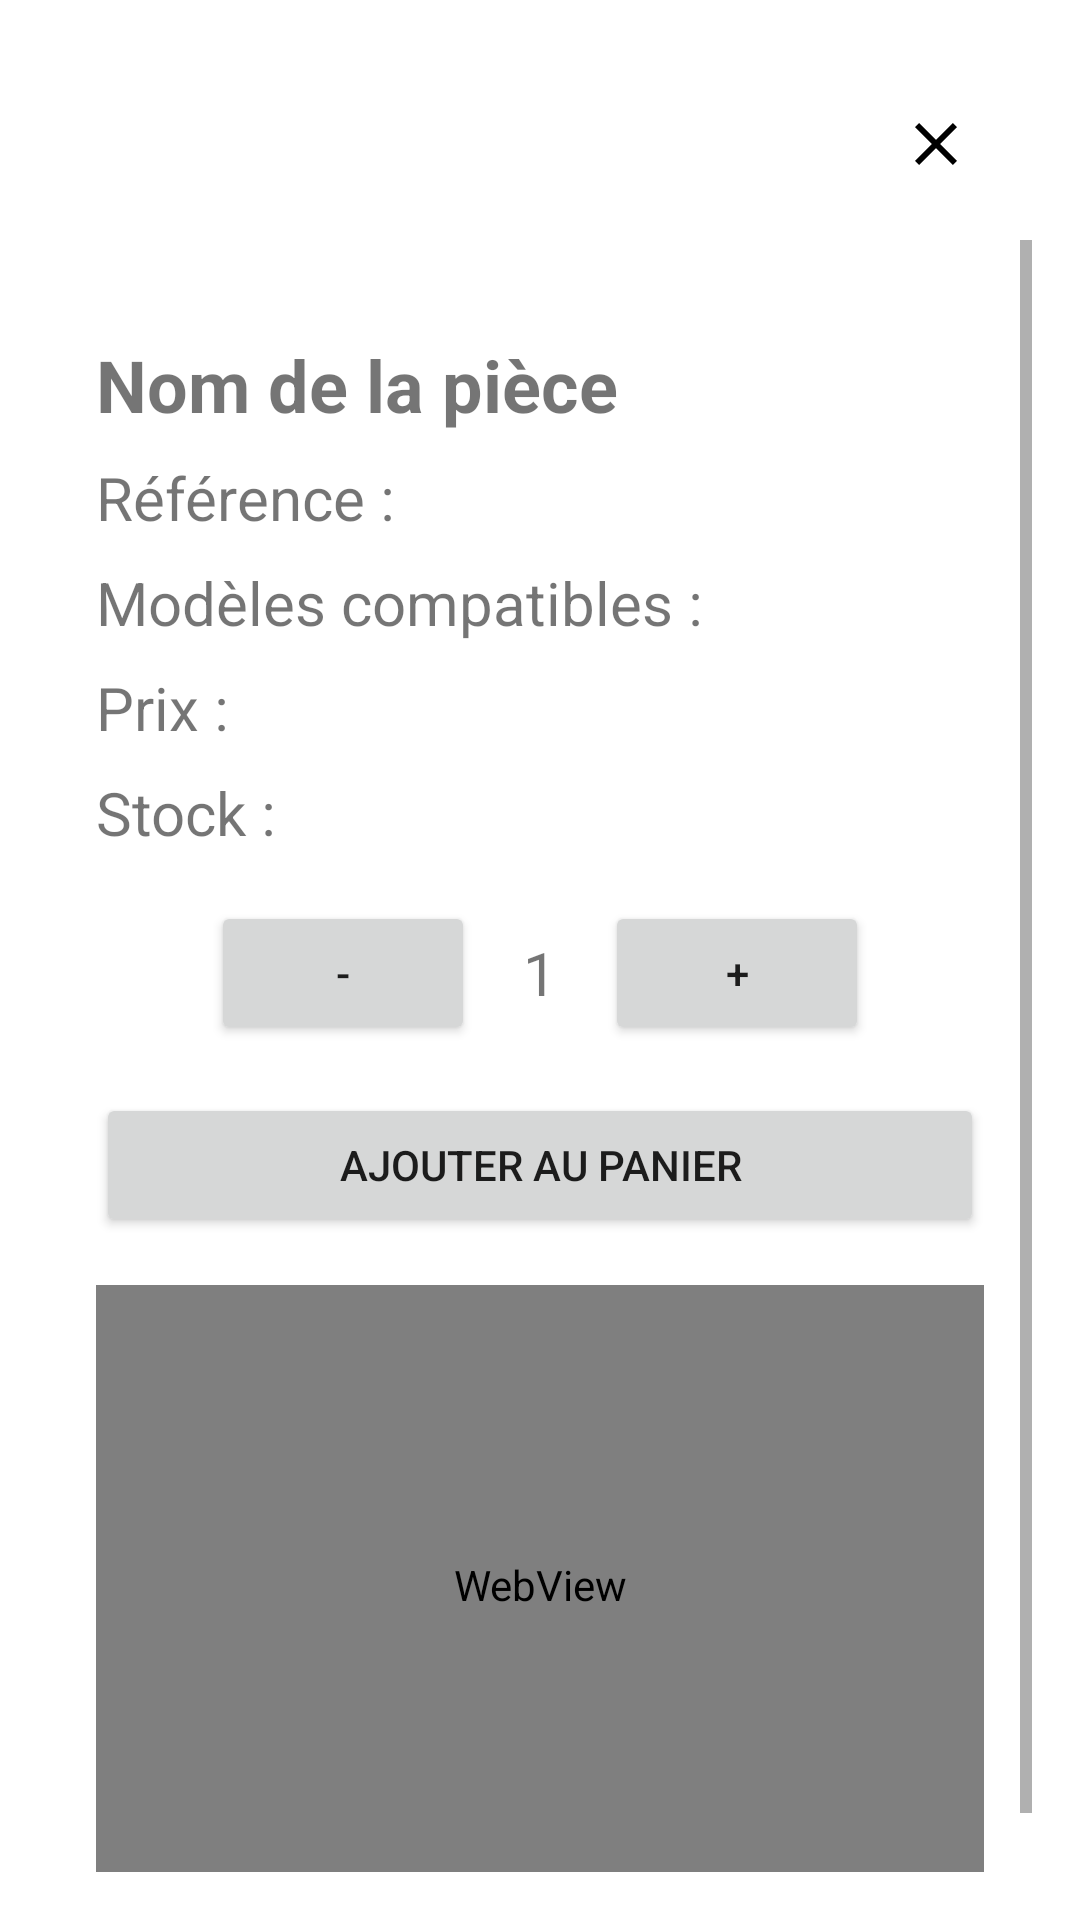

Icons on this 1080*1920 Android screen, each with its box as box=[x1, y1, x2, y2]:
Fermer: box=[915, 123, 957, 165]
